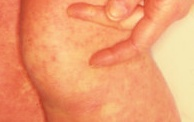SJS-TEN: (0, 0, 117, 122)
